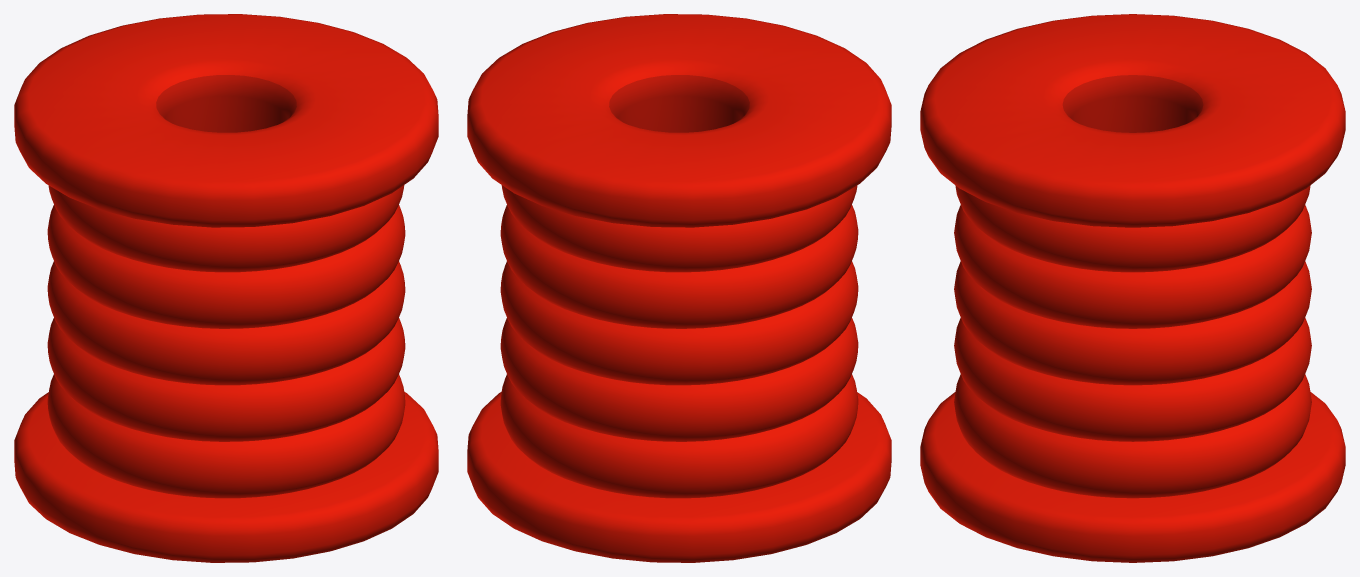
File: iplik.fbx
3 renders of one model, left to right at view 1: azimuth 30°, elevation 25°; view 2: azimuth 150°, elevation 25°; view 3: azimuth 270°, elevation 25°, orthographic.
Visible parts, largest first — view 1: iplik, ip; view 2: iplik, ip; view 3: iplik, ip.
Boxes of the visible parts, x1=… form: iplik: x1=14, y1=14, x2=438, y2=562; ip: x1=47, y1=185, x2=405, y2=498; iplik: x1=467, y1=14, x2=891, y2=562; ip: x1=500, y1=185, x2=858, y2=498; iplik: x1=920, y1=14, x2=1345, y2=562; ip: x1=954, y1=185, x2=1311, y2=498.
Bounding box in the file's own units: 67.09 × 66.5 × 67.09.
